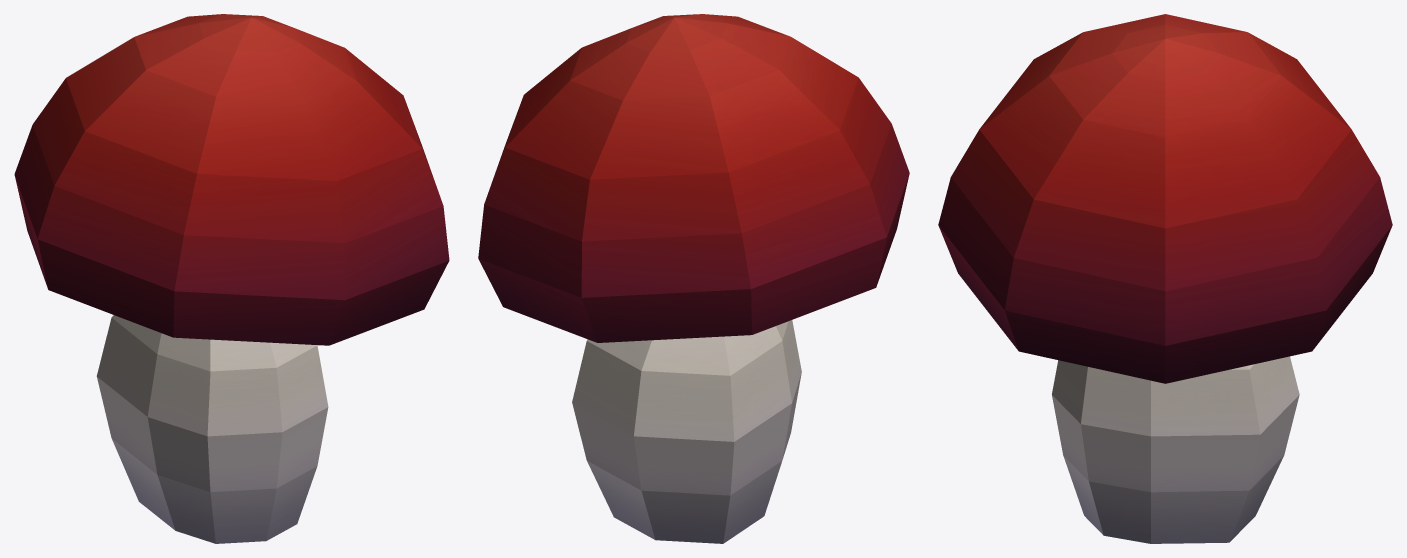
Rendered from Mushroom_Red.fbx.
3 renders of one model, left to right at view 1: azimuth 30°, elevation 25°; view 2: azimuth 150°, elevation 25°; view 3: azimuth 270°, elevation 25°, orthographic.
Parts seen in each view (by area): view 1: Mushroom 3; view 2: Mushroom 3; view 3: Mushroom 3.
Part boxes in pixels (box(x1,y1,x2,y2)): Mushroom 3: box(14, 14, 449, 543); Mushroom 3: box(478, 14, 909, 543); Mushroom 3: box(938, 14, 1392, 543).
Size of the model in its own units: 163 by 195 by 164.
